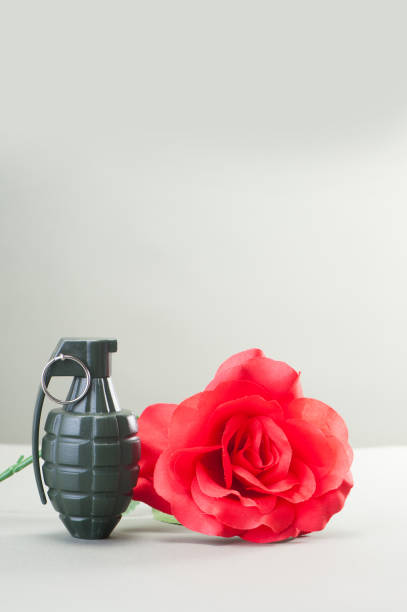e1: (30, 337, 140, 543)
